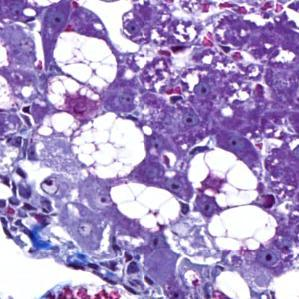ballooning: (70, 111, 148, 184), (184, 146, 260, 213), (103, 178, 183, 236), (207, 200, 281, 259), (52, 29, 120, 92)
